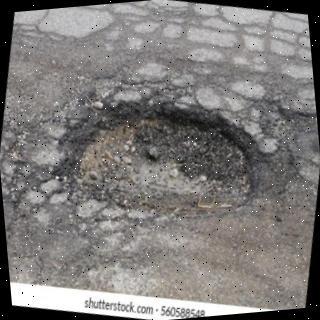pothole: (57, 97, 297, 215)
